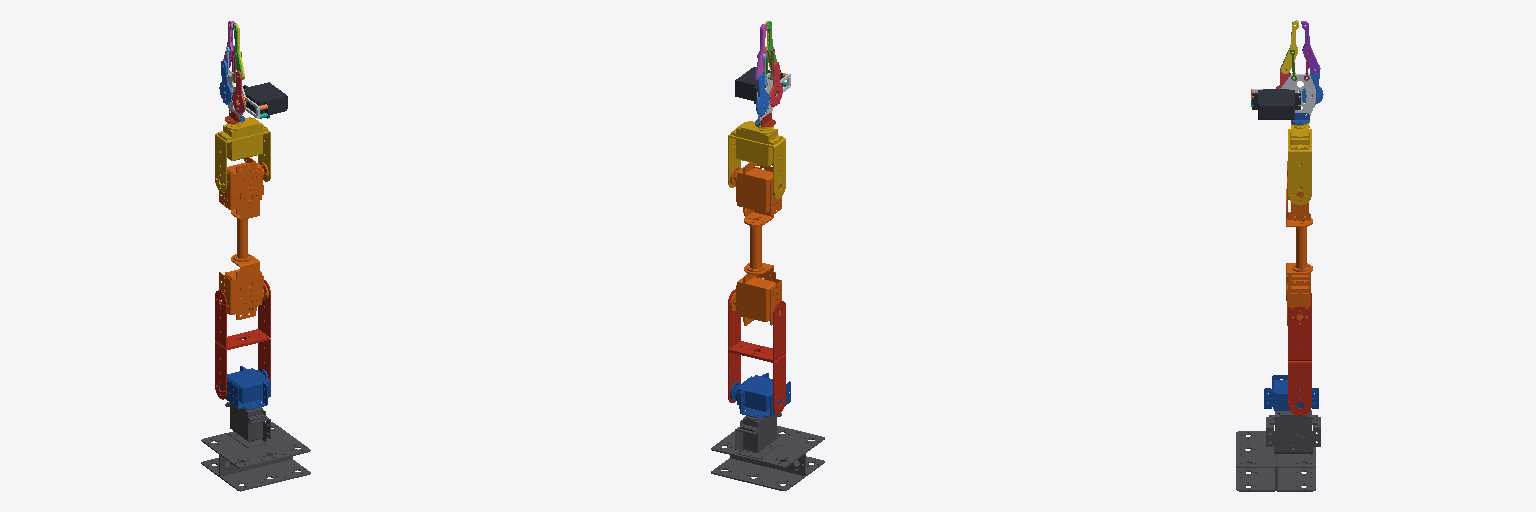
The robot description file, URDF, robot "robot_arm_with_gripper":
<?xml version="1.0"?>
<!-- Portable copy generated by build_combined_urdf.py. Mesh paths are relative to this file. -->
<!-- Joint axes, limits and inertias are provisional. Gripper mimic joints approximate the linkage. -->
<!-- Collision uses detailed visual meshes and is not optimized or physically calibrated. -->
<robot name="robot_arm_with_gripper">
  <link name="base_link">
    <visual>
      <origin xyz="0 0 0" rpy="0 0 0" />
      <geometry>
        <mesh filename="meshes/parts_stls/base_joint_p.stl" scale="0.001 0.001 0.001" />
      </geometry>
      <material name="base_gray">
        <color rgba="0.35 0.35 0.38 1" />
      </material>
    </visual>
    <collision>
      <origin xyz="0 0 0" rpy="0 0 0" />
      <geometry>
        <mesh filename="meshes/parts_stls/base_joint_p.stl" scale="0.001 0.001 0.001" />
      </geometry>
    </collision>
    <inertial>
      <origin xyz="0 0 0.039" />
      <mass value="1.0" />
      <inertia ixx="0.01" ixy="0" ixz="0" iyy="0.01" iyz="0" izz="0.01" />
    </inertial>
  </link>
  <link name="servo_link">
    <visual>
      <origin xyz="0 0 0" rpy="0 0 0" />
      <geometry>
        <mesh filename="meshes/parts_stls/servo_with_bracket_p.stl" scale="0.001 0.001 0.001" />
      </geometry>
      <material name="servo_blue">
        <color rgba="0.15 0.35 0.65 1" />
      </material>
    </visual>
    <collision>
      <origin xyz="0 0 0" rpy="0 0 0" />
      <geometry>
        <mesh filename="meshes/parts_stls/servo_with_bracket_p.stl" scale="0.001 0.001 0.001" />
      </geometry>
    </collision>
    <inertial>
      <origin xyz="0 0 0.012" />
      <mass value="0.35" />
      <inertia ixx="0.001" ixy="0" ixz="0" iyy="0.001" iyz="0" izz="0.001" />
    </inertial>
  </link>
  <link name="dual_u_link">
    <visual>
      <origin xyz="0 0 0" rpy="0 0 0" />
      <geometry>
        <mesh filename="meshes/parts_stls/dual_u_p.stl" scale="0.001 0.001 0.001" />
      </geometry>
      <material name="link_red">
        <color rgba="0.75 0.22 0.15 1" />
      </material>
    </visual>
    <collision>
      <origin xyz="0 0 0" rpy="0 0 0" />
      <geometry>
        <mesh filename="meshes/parts_stls/dual_u_p.stl" scale="0.001 0.001 0.001" />
      </geometry>
    </collision>
    <inertial>
      <origin xyz="0 0 0.052" />
      <mass value="0.45" />
      <inertia ixx="0.002" ixy="0" ixz="0" iyy="0.002" iyz="0" izz="0.002" />
    </inertial>
  </link>
  <link name="cylinder_brackets_link">
    <visual>
      <origin xyz="0 0 0" rpy="0 0 0" />
      <geometry>
        <mesh filename="meshes/parts_stls/cylinder_brackets_p.stl" scale="0.001 0.001 0.001" />
      </geometry>
      <material name="link_orange">
        <color rgba="0.85 0.42 0.12 1" />
      </material>
    </visual>
    <collision>
      <origin xyz="0 0 0" rpy="0 0 0" />
      <geometry>
        <mesh filename="meshes/parts_stls/cylinder_brackets_p.stl" scale="0.001 0.001 0.001" />
      </geometry>
    </collision>
    <inertial>
      <origin xyz="0 0 0.072" />
      <mass value="0.50" />
      <inertia ixx="0.003" ixy="0" ixz="0" iyy="0.003" iyz="0" izz="0.003" />
    </inertial>
  </link>
  <link name="u_bracket_link">
    <visual>
      <origin xyz="-0.0005 -0.0125 0.0515" rpy="-1.57079633 0 0" />
      <geometry>
        <mesh filename="meshes/parts_stls/long_u_servo_mount_body_p.stl" scale="0.001 0.001 0.001" />
      </geometry>
      <material name="link_yellow">
        <color rgba="0.82 0.65 0.12 1" />
      </material>
    </visual>
    <collision>
      <origin xyz="-0.0005 -0.0125 0.0515" rpy="-1.57079633 0 0" />
      <geometry>
        <mesh filename="meshes/parts_stls/long_u_servo_mount_body_p.stl" scale="0.001 0.001 0.001" />
      </geometry>
    </collision>
    <inertial>
      <origin xyz="0 0 0.020" />
      <mass value="0.25" />
      <inertia ixx="0.001" ixy="0" ixz="0" iyy="0.001" iyz="0" izz="0.001" />
    </inertial>
  </link>
  <joint name="base_yaw" type="revolute">
    <parent link="base_link" />
    <child link="servo_link" />
    <origin xyz="0 0 0.0785" rpy="0 0 0" />
    <axis xyz="0 0 1" />
    <limit lower="-3.14159" upper="3.14159" effort="10" velocity="2" />
  </joint>
  <joint name="shoulder_pitch" type="revolute">
    <parent link="servo_link" />
    <child link="dual_u_link" />
    <origin xyz="0 -0.002 0.0135" rpy="0 0 0" />
    <axis xyz="1 0 0" />
    <limit lower="-1.5708" upper="1.5708" effort="10" velocity="2" />
  </joint>
  <joint name="elbow_pitch" type="revolute">
    <parent link="dual_u_link" />
    <child link="cylinder_brackets_link" />
    <origin xyz="0 0 0.103" rpy="0 0 0" />
    <axis xyz="1 0 0" />
    <limit lower="-2.3562" upper="2.3562" effort="10" velocity="2" />
  </joint>
  <joint name="wrist_pitch" type="revolute">
    <parent link="cylinder_brackets_link" />
    <child link="u_bracket_link" />
    <origin xyz="0 0 0.143" rpy="0 0 0" />
    <axis xyz="1 0 0" />
    <limit lower="-2.3562" upper="2.3562" effort="10" velocity="2" />
  </joint>
  <joint name="wrist_roll" type="revolute">
    <parent link="u_bracket_link" />
    <child link="wrist_horn_link" />
    <origin xyz="-0.01 0 0.0644" rpy="0 0 0" />
    <axis xyz="0 0 1" />
    <limit lower="-1.5708" upper="1.5708" effort="10" velocity="2" />
  </joint>
  <link name="wrist_horn_link">
    <visual>
      <origin xyz="0 0 0" rpy="1.57079633 0 3.14159265" />
      <geometry>
        <mesh filename="meshes/robot_arm_stls/aluminum_servo_horn.stl" scale="0.001 0.001 0.001" />
      </geometry>
      <material name="wrist_horn_gold">
        <color rgba="0.95 0.68 0.12 1" />
      </material>
    </visual>
    <collision>
      <origin xyz="0 0 0" rpy="1.57079633 0 3.14159265" />
      <geometry>
        <mesh filename="meshes/robot_arm_stls/aluminum_servo_horn.stl" scale="0.001 0.001 0.001" />
      </geometry>
    </collision>
  </link>
  <joint name="wrist_horn_to_gripper" type="fixed">
    <parent link="wrist_horn_link" />
    <child link="tool_gripper_palm_link" />
    <origin xyz="0.0005 -0.03674 0.0335" rpy="0 -1.57079633 0" />
  </joint>
  <link name="tool_gripper_palm_link">
    <visual>
      <origin xyz="0 0 0" rpy="0 0 0" />
      <geometry>
        <mesh filename="meshes/robot_arm_stls/gripper_palm.stl" scale="0.001 0.001 0.001" />
      </geometry>
      <material name="tool_gripper_palm_link_color">
        <color rgba="0.83 0.84 0.87 1" />
      </material>
    </visual>
    <collision>
      <origin xyz="0 0 0" rpy="0 0 0" />
      <geometry>
        <mesh filename="meshes/robot_arm_stls/gripper_palm.stl" scale="0.001 0.001 0.001" />
      </geometry>
    </collision>
  </link>
  <link name="tool_servo_link">
    <visual>
      <origin xyz="0 0 0" rpy="0 0 0" />
      <geometry>
        <mesh filename="meshes/robot_arm_stls/mg996r_servo.stl" scale="0.001 0.001 0.001" />
      </geometry>
      <material name="tool_servo_link_color">
        <color rgba="0.22 0.24 0.28 1" />
      </material>
    </visual>
    <collision>
      <origin xyz="0 0 0" rpy="0 0 0" />
      <geometry>
        <mesh filename="meshes/robot_arm_stls/mg996r_servo.stl" scale="0.001 0.001 0.001" />
      </geometry>
    </collision>
  </link>
  <joint name="tool_servo_fixed" type="fixed">
    <parent link="tool_gripper_palm_link" />
    <child link="tool_servo_link" />
    <origin xyz="-0.00028 0.01154 -0.0395" rpy="0 0 0" />
  </joint>
  <link name="tool_center_spacer_link">
    <visual>
      <origin xyz="0 0 0" rpy="1.570796327 0 0" />
      <geometry>
        <mesh filename="meshes/robot_arm_stls/spacer_short.stl" scale="0.001 0.001 0.001" />
      </geometry>
      <material name="tool_center_spacer_link_color">
        <color rgba="0.56 0.34 0.86 1" />
      </material>
    </visual>
    <collision>
      <origin xyz="0 0 0" rpy="1.570796327 0 0" />
      <geometry>
        <mesh filename="meshes/robot_arm_stls/spacer_short.stl" scale="0.001 0.001 0.001" />
      </geometry>
    </collision>
  </link>
  <joint name="tool_center_spacer_fixed" type="fixed">
    <parent link="tool_gripper_palm_link" />
    <child link="tool_center_spacer_link" />
    <origin xyz="0 0.049 0" rpy="0 0 0" />
  </joint>
  <link name="tool_upper_link_spacer_link">
    <visual>
      <origin xyz="0 0 0" rpy="1.570796327 0 0" />
      <geometry>
        <mesh filename="meshes/robot_arm_stls/spacer_short.stl" scale="0.001 0.001 0.001" />
      </geometry>
      <material name="tool_upper_link_spacer_link_color">
        <color rgba="0.95 0.7 0.42 1" />
      </material>
    </visual>
    <collision>
      <origin xyz="0 0 0" rpy="1.570796327 0 0" />
      <geometry>
        <mesh filename="meshes/robot_arm_stls/spacer_short.stl" scale="0.001 0.001 0.001" />
      </geometry>
    </collision>
  </link>
  <joint name="tool_upper_link_spacer_fixed" type="fixed">
    <parent link="tool_gripper_palm_link" />
    <child link="tool_upper_link_spacer_link" />
    <origin xyz="0.022 0.04374 0" rpy="0 0 0" />
  </joint>
  <link name="tool_lower_link_spacer_link">
    <visual>
      <origin xyz="0 0 0" rpy="1.570796327 0 0" />
      <geometry>
        <mesh filename="meshes/robot_arm_stls/spacer_short.stl" scale="0.001 0.001 0.001" />
      </geometry>
      <material name="tool_lower_link_spacer_link_color">
        <color rgba="0.42 0.85 0.57 1" />
      </material>
    </visual>
    <collision>
      <origin xyz="0 0 0" rpy="1.570796327 0 0" />
      <geometry>
        <mesh filename="meshes/robot_arm_stls/spacer_short.stl" scale="0.001 0.001 0.001" />
      </geometry>
    </collision>
  </link>
  <joint name="tool_lower_link_spacer_fixed" type="fixed">
    <parent link="tool_gripper_palm_link" />
    <child link="tool_lower_link_spacer_link" />
    <origin xyz="0.022 0.03026 0" rpy="0 0 0" />
  </joint>
  <link name="tool_rear_spacer_left_link">
    <visual>
      <origin xyz="0 0 0" rpy="1.570796327 0 0" />
      <geometry>
        <mesh filename="meshes/robot_arm_stls/spacer_long.stl" scale="0.001 0.001 0.001" />
      </geometry>
      <material name="tool_rear_spacer_left_link_color">
        <color rgba="0.14 0.7 0.66 1" />
      </material>
    </visual>
    <collision>
      <origin xyz="0 0 0" rpy="1.570796327 0 0" />
      <geometry>
        <mesh filename="meshes/robot_arm_stls/spacer_long.stl" scale="0.001 0.001 0.001" />
      </geometry>
    </collision>
  </link>
  <joint name="tool_rear_spacer_left_fixed" type="fixed">
    <parent link="tool_gripper_palm_link" />
    <child link="tool_rear_spacer_left_link" />
    <origin xyz="-0.0055 -0.013 -0.01" rpy="0 0 0" />
  </joint>
  <link name="tool_rear_spacer_right_link">
    <visual>
      <origin xyz="0 0 0" rpy="1.570796327 0 0" />
      <geometry>
        <mesh filename="meshes/robot_arm_stls/spacer_long.stl" scale="0.001 0.001 0.001" />
      </geometry>
      <material name="tool_rear_spacer_right_link_color">
        <color rgba="0.95 0.55 0.3 1" />
      </material>
    </visual>
    <collision>
      <origin xyz="0 0 0" rpy="1.570796327 0 0" />
      <geometry>
        <mesh filename="meshes/robot_arm_stls/spacer_long.stl" scale="0.001 0.001 0.001" />
      </geometry>
    </collision>
  </link>
  <joint name="tool_rear_spacer_right_fixed" type="fixed">
    <parent link="tool_gripper_palm_link" />
    <child link="tool_rear_spacer_right_link" />
    <origin xyz="0.0045 -0.013 -0.01" rpy="0 0 0" />
  </joint>
  <link name="tool_support_lower_link">
    <visual>
      <origin xyz="0 0 0" rpy="-1.570796327 -1.570796327 0" />
      <geometry>
        <mesh filename="meshes/robot_arm_stls/gripper_l_bracket.stl" scale="0.001 0.001 0.001" />
      </geometry>
      <material name="tool_support_lower_link_color">
        <color rgba="0.18 0.4 0.7 1" />
      </material>
    </visual>
    <collision>
      <origin xyz="0 0 0" rpy="-1.570796327 -1.570796327 0" />
      <geometry>
        <mesh filename="meshes/robot_arm_stls/gripper_l_bracket.stl" scale="0.001 0.001 0.001" />
      </geometry>
    </collision>
  </link>
  <joint name="tool_support_lower_fixed" type="fixed">
    <parent link="tool_gripper_palm_link" />
    <child link="tool_support_lower_link" />
    <origin xyz="-0.0285 0.02674 0" rpy="0 0 0" />
  </joint>
  <link name="tool_support_upper_link">
    <visual>
      <origin xyz="0 0 0" rpy="1.570796327 1.570796327 0" />
      <geometry>
        <mesh filename="meshes/robot_arm_stls/gripper_l_bracket.stl" scale="0.001 0.001 0.001" />
      </geometry>
      <material name="tool_support_upper_link_color">
        <color rgba="0.68 0.25 0.16 1" />
      </material>
    </visual>
    <collision>
      <origin xyz="0 0 0" rpy="1.570796327 1.570796327 0" />
      <geometry>
        <mesh filename="meshes/robot_arm_stls/gripper_l_bracket.stl" scale="0.001 0.001 0.001" />
      </geometry>
    </collision>
  </link>
  <joint name="tool_support_upper_fixed" type="fixed">
    <parent link="tool_gripper_palm_link" />
    <child link="tool_support_upper_link" />
    <origin xyz="-0.0285 0.04674 0.002" rpy="0 0 0" />
  </joint>
  <link name="tool_lower_drive_gear_link">
    <visual>
      <origin xyz="0 0 0.002" rpy="3.141592654 0 -1.570796327" />
      <geometry>
        <mesh filename="meshes/robot_arm_stls/gripper_palm_to_finger_large_lo.stl" scale="0.001 0.001 0.001" />
      </geometry>
      <material name="tool_lower_drive_gear_link_color">
        <color rgba="0.88 0.3 0.34 1" />
      </material>
    </visual>
    <collision>
      <origin xyz="0 0 0.002" rpy="3.141592654 0 -1.570796327" />
      <geometry>
        <mesh filename="meshes/robot_arm_stls/gripper_palm_to_finger_large_lo.stl" scale="0.001 0.001 0.001" />
      </geometry>
    </collision>
  </link>
  <joint name="tool_gripper_drive_joint" type="revolute">
    <parent link="tool_gripper_palm_link" />
    <child link="tool_lower_drive_gear_link" />
    <origin xyz="-0.0002 0.02104 0.0042" rpy="0 0 0" />
    <axis xyz="0 0 1" />
    <limit lower="-1.047197551" upper="0" effort="1" velocity="1" />
  </joint>
  <link name="tool_upper_drive_gear_link">
    <visual>
      <origin xyz="0 0 0" rpy="0 0 1.705186679" />
      <geometry>
        <mesh filename="meshes/robot_arm_stls/gripper_palm_to_finger_large.stl" scale="0.001 0.001 0.001" />
      </geometry>
      <material name="tool_upper_drive_gear_link_color">
        <color rgba="0.23 0.51 0.9 1" />
      </material>
    </visual>
    <collision>
      <origin xyz="0 0 0" rpy="0 0 1.705186679" />
      <geometry>
        <mesh filename="meshes/robot_arm_stls/gripper_palm_to_finger_large.stl" scale="0.001 0.001 0.001" />
      </geometry>
    </collision>
  </link>
  <joint name="tool_gripper_opposed_joint" type="revolute">
    <parent link="tool_gripper_palm_link" />
    <child link="tool_upper_drive_gear_link" />
    <origin xyz="0 0.049 0.0042" rpy="0 0 0" />
    <axis xyz="0 0 1" />
    <limit lower="0" upper="1.047197551" effort="1" velocity="1" />
    <mimic joint="tool_gripper_drive_joint" multiplier="-1" offset="0" />
  </joint>
  <link name="tool_servo_horn_link">
    <visual>
      <origin xyz="0 0 0" rpy="1.570796327 0 1.570796327" />
      <geometry>
        <mesh filename="meshes/robot_arm_stls/aluminum_servo_horn.stl" scale="0.001 0.001 0.001" />
      </geometry>
      <material name="tool_servo_horn_link_color">
        <color rgba="0.95 0.68 0.12 1" />
      </material>
    </visual>
    <collision>
      <origin xyz="0 0 0" rpy="1.570796327 0 1.570796327" />
      <geometry>
        <mesh filename="meshes/robot_arm_stls/aluminum_servo_horn.stl" scale="0.001 0.001 0.001" />
      </geometry>
    </collision>
  </link>
  <joint name="tool_servo_horn_fixed" type="fixed">
    <parent link="tool_lower_drive_gear_link" />
    <child link="tool_servo_horn_link" />
    <origin xyz="0 0 -0.005" rpy="0 0 0" />
  </joint>
  <link name="tool_lower_finger_link">
    <visual>
      <origin xyz="-0.006495 0.002795 0" rpy="3.141592654 0 0.37902077" />
      <geometry>
        <mesh filename="meshes/robot_arm_stls/finger.stl" scale="0.001 0.001 0.001" />
      </geometry>
      <material name="tool_lower_finger_link_color">
        <color rgba="0.34 0.73 0.31 1" />
      </material>
    </visual>
    <collision>
      <origin xyz="-0.006495 0.002795 0" rpy="3.141592654 0 0.37902077" />
      <geometry>
        <mesh filename="meshes/robot_arm_stls/finger.stl" scale="0.001 0.001 0.001" />
      </geometry>
    </collision>
  </link>
  <joint name="tool_lower_finger_joint" type="revolute">
    <parent link="tool_lower_drive_gear_link" />
    <child link="tool_lower_finger_link" />
    <origin xyz="0.030765 -0.000005 0" rpy="0 0 0" />
    <axis xyz="0 0 1" />
    <limit lower="0" upper="1.047197551" effort="1" velocity="1" />
    <mimic joint="tool_gripper_drive_joint" multiplier="-1" offset="0" />
  </joint>
  <link name="tool_upper_finger_link">
    <visual>
      <origin xyz="-0.006495 -0.002795 0" rpy="3.141592654 0 -0.37902077" />
      <geometry>
        <mesh filename="meshes/robot_arm_stls/urdf_mirrored/finger_y_mirror.stl" scale="0.001 0.001 0.001" />
      </geometry>
      <material name="tool_upper_finger_link_color">
        <color rgba="0.91 0.4 0.76 1" />
      </material>
    </visual>
    <collision>
      <origin xyz="-0.006495 -0.002795 0" rpy="3.141592654 0 -0.37902077" />
      <geometry>
        <mesh filename="meshes/robot_arm_stls/urdf_mirrored/finger_y_mirror.stl" scale="0.001 0.001 0.001" />
      </geometry>
    </collision>
  </link>
  <joint name="tool_upper_finger_joint" type="revolute">
    <parent link="tool_upper_drive_gear_link" />
    <child link="tool_upper_finger_link" />
    <origin xyz="0.030565 0.003965 0" rpy="0 0 0" />
    <axis xyz="0 0 1" />
    <limit lower="-1.047197551" upper="0" effort="1" velocity="1" />
    <mimic joint="tool_gripper_drive_joint" multiplier="1" offset="0" />
  </joint>
  <link name="tool_lower_finger_under_link">
    <visual>
      <origin xyz="-0.006495 0.002795 0" rpy="3.141592654 0 0.37902077" />
      <geometry>
        <mesh filename="meshes/robot_arm_stls/finger.stl" scale="0.001 0.001 0.001" />
      </geometry>
      <material name="tool_lower_finger_under_link_color">
        <color rgba="0.94 0.84 0.2 1" />
      </material>
    </visual>
    <collision>
      <origin xyz="-0.006495 0.002795 0" rpy="3.141592654 0 0.37902077" />
      <geometry>
        <mesh filename="meshes/robot_arm_stls/finger.stl" scale="0.001 0.001 0.001" />
      </geometry>
    </collision>
  </link>
  <joint name="tool_lower_finger_under_fixed" type="fixed">
    <parent link="tool_lower_finger_link" />
    <child link="tool_lower_finger_under_link" />
    <origin xyz="0 0 -0.002" rpy="0 0 0" />
  </joint>
  <link name="tool_upper_finger_under_link">
    <visual>
      <origin xyz="-0.006495 -0.002795 0" rpy="3.141592654 0 -0.37902077" />
      <geometry>
        <mesh filename="meshes/robot_arm_stls/urdf_mirrored/finger_y_mirror.stl" scale="0.001 0.001 0.001" />
      </geometry>
      <material name="tool_upper_finger_under_link_color">
        <color rgba="0.58 0.32 0.84 1" />
      </material>
    </visual>
    <collision>
      <origin xyz="-0.006495 -0.002795 0" rpy="3.141592654 0 -0.37902077" />
      <geometry>
        <mesh filename="meshes/robot_arm_stls/urdf_mirrored/finger_y_mirror.stl" scale="0.001 0.001 0.001" />
      </geometry>
    </collision>
  </link>
  <joint name="tool_upper_finger_under_fixed" type="fixed">
    <parent link="tool_upper_finger_link" />
    <child link="tool_upper_finger_under_link" />
    <origin xyz="0 0 -0.002" rpy="0 0 0" />
  </joint>
  <link name="tool_upper_small_link_link">
    <visual>
      <origin xyz="0 0 0" rpy="0 0 1.623156204" />
      <geometry>
        <mesh filename="meshes/robot_arm_stls/gripper_palm_to_finger_small.stl" scale="0.001 0.001 0.001" />
      </geometry>
      <material name="tool_upper_small_link_link_color">
        <color rgba="0.48 0.77 0.93 1" />
      </material>
    </visual>
    <collision>
      <origin xyz="0 0 0" rpy="0 0 1.623156204" />
      <geometry>
        <mesh filename="meshes/robot_arm_stls/gripper_palm_to_finger_small.stl" scale="0.001 0.001 0.001" />
      </geometry>
    </collision>
  </link>
  <joint name="tool_upper_small_link_joint" type="revolute">
    <parent link="tool_gripper_palm_link" />
    <child link="tool_upper_small_link_link" />
    <origin xyz="0.022 0.04374 0.0042" rpy="0 0 0" />
    <axis xyz="0 0 1" />
    <limit lower="0" upper="1.047197551" effort="1" velocity="1" />
    <mimic joint="tool_gripper_drive_joint" multiplier="-1" offset="0" />
  </joint>
  <link name="tool_upper_small_link_back_link">
    <visual>
      <origin xyz="0 0 0" rpy="0 0 1.623156204" />
      <geometry>
        <mesh filename="meshes/robot_arm_stls/gripper_palm_to_finger_small.stl" scale="0.001 0.001 0.001" />
      </geometry>
      <material name="tool_upper_small_link_back_link_color">
        <color rgba="0.73 0.24 0.52 1" />
      </material>
    </visual>
    <collision>
      <origin xyz="0 0 0" rpy="0 0 1.623156204" />
      <geometry>
        <mesh filename="meshes/robot_arm_stls/gripper_palm_to_finger_small.stl" scale="0.001 0.001 0.001" />
      </geometry>
    </collision>
  </link>
  <joint name="tool_upper_small_link_back_fixed" type="fixed">
    <parent link="tool_upper_small_link_link" />
    <child link="tool_upper_small_link_back_link" />
    <origin xyz="0 0 -0.0062" rpy="0 0 0" />
  </joint>
  <link name="tool_lower_small_link_link">
    <visual>
      <origin xyz="0 0 0" rpy="0 0 -1.623156204" />
      <geometry>
        <mesh filename="meshes/robot_arm_stls/urdf_mirrored/small_link_y_mirror.stl" scale="0.001 0.001 0.001" />
      </geometry>
      <material name="tool_lower_small_link_link_color">
        <color rgba="0.55 0.43 0.28 1" />
      </material>
    </visual>
    <collision>
      <origin xyz="0 0 0" rpy="0 0 -1.623156204" />
      <geometry>
        <mesh filename="meshes/robot_arm_stls/urdf_mirrored/small_link_y_mirror.stl" scale="0.001 0.001 0.001" />
      </geometry>
    </collision>
  </link>
  <joint name="tool_lower_small_link_joint" type="revolute">
    <parent link="tool_gripper_palm_link" />
    <child link="tool_lower_small_link_link" />
    <origin xyz="0.022 0.03026 0.0042" rpy="0 0 0" />
    <axis xyz="0 0 1" />
    <limit lower="-1.047197551" upper="0" effort="1" velocity="1" />
    <mimic joint="tool_gripper_drive_joint" multiplier="1" offset="0" />
  </joint>
  <link name="tool_lower_small_link_back_link">
    <visual>
      <origin xyz="0 0 0" rpy="0 0 -1.623156204" />
      <geometry>
        <mesh filename="meshes/robot_arm_stls/urdf_mirrored/small_link_y_mirror.stl" scale="0.001 0.001 0.001" />
      </geometry>
      <material name="tool_lower_small_link_back_link_color">
        <color rgba="0.31 0.52 0.17 1" />
      </material>
    </visual>
    <collision>
      <origin xyz="0 0 0" rpy="0 0 -1.623156204" />
      <geometry>
        <mesh filename="meshes/robot_arm_stls/urdf_mirrored/small_link_y_mirror.stl" scale="0.001 0.001 0.001" />
      </geometry>
    </collision>
  </link>
  <joint name="tool_lower_small_link_back_fixed" type="fixed">
    <parent link="tool_lower_small_link_link" />
    <child link="tool_lower_small_link_back_link" />
    <origin xyz="0 0 -0.0062" rpy="0 0 0" />
  </joint>
</robot>

--- Render facts (derived) ---
Views: 3 orthographic renders of the robot side by side, from view 1: azimuth 30°, elevation 25°; view 2: azimuth 150°, elevation 25°; view 3: azimuth 270°, elevation 25°.
Model robot_arm_with_gripper with 26 links and 25 joints (11 revolute, 14 fixed), rooted at base_link, posed every joint at zero.
Visible links, largest first — view 1: base_link, cylinder_brackets_link, dual_u_link, u_bracket_link, servo_link, tool_servo_link; view 2: base_link, cylinder_brackets_link, dual_u_link, u_bracket_link, servo_link, tool_servo_link; view 3: base_link, dual_u_link, cylinder_brackets_link, u_bracket_link, tool_servo_link, servo_link, tool_gripper_palm_link.
Link boxes in pixels (left/top/right/bottom): base_link: left=201, top=401, right=310, bottom=491; cylinder_brackets_link: left=219, top=157, right=268, bottom=319; dual_u_link: left=215, top=280, right=270, bottom=399; u_bracket_link: left=215, top=117, right=270, bottom=192; servo_link: left=220, top=366, right=270, bottom=409; tool_servo_link: left=239, top=82, right=287, bottom=118; base_link: left=711, top=409, right=824, bottom=490; cylinder_brackets_link: left=730, top=162, right=781, bottom=325; dual_u_link: left=728, top=289, right=785, bottom=413; u_bracket_link: left=728, top=121, right=785, bottom=198; servo_link: left=730, top=373, right=790, bottom=418; tool_servo_link: left=735, top=67, right=782, bottom=103; base_link: left=1236, top=410, right=1320, bottom=491; dual_u_link: left=1288, top=293, right=1311, bottom=415; cylinder_brackets_link: left=1286, top=161, right=1312, bottom=325; u_bracket_link: left=1288, top=124, right=1311, bottom=205; tool_servo_link: left=1252, top=89, right=1300, bottom=119; servo_link: left=1264, top=375, right=1318, bottom=410; tool_gripper_palm_link: left=1251, top=74, right=1315, bottom=115.
Bounding box of the posed robot: 0.09 × 0.0923 × 0.5227 m (x, y, z).
Meshes: 17 distinct files referenced, 26 mesh visuals loaded (16 binary STL, 1 ASCII STL).
